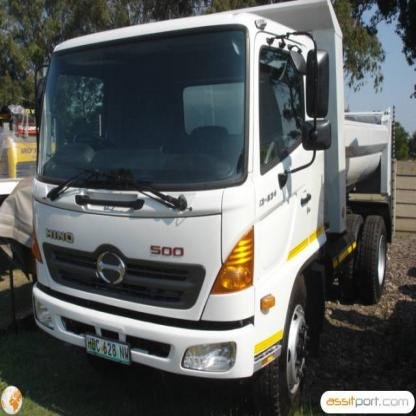dump_truck: (25, 3, 402, 411)
